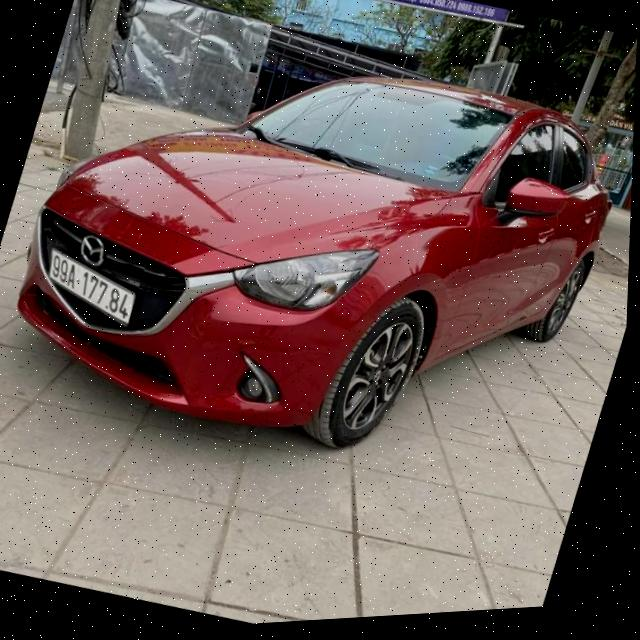car: (0, 0, 640, 530)
plate: (35, 242, 147, 332)
